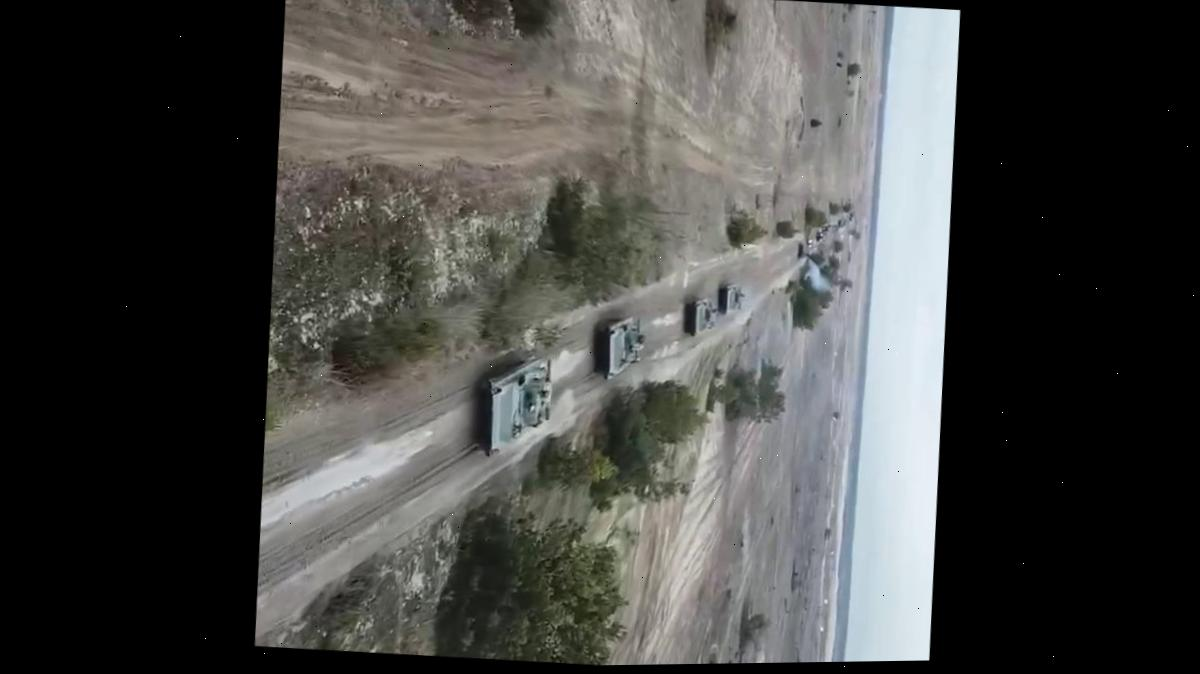tank: (472, 350, 556, 461), (595, 313, 646, 383), (684, 296, 720, 336), (716, 282, 748, 315)
